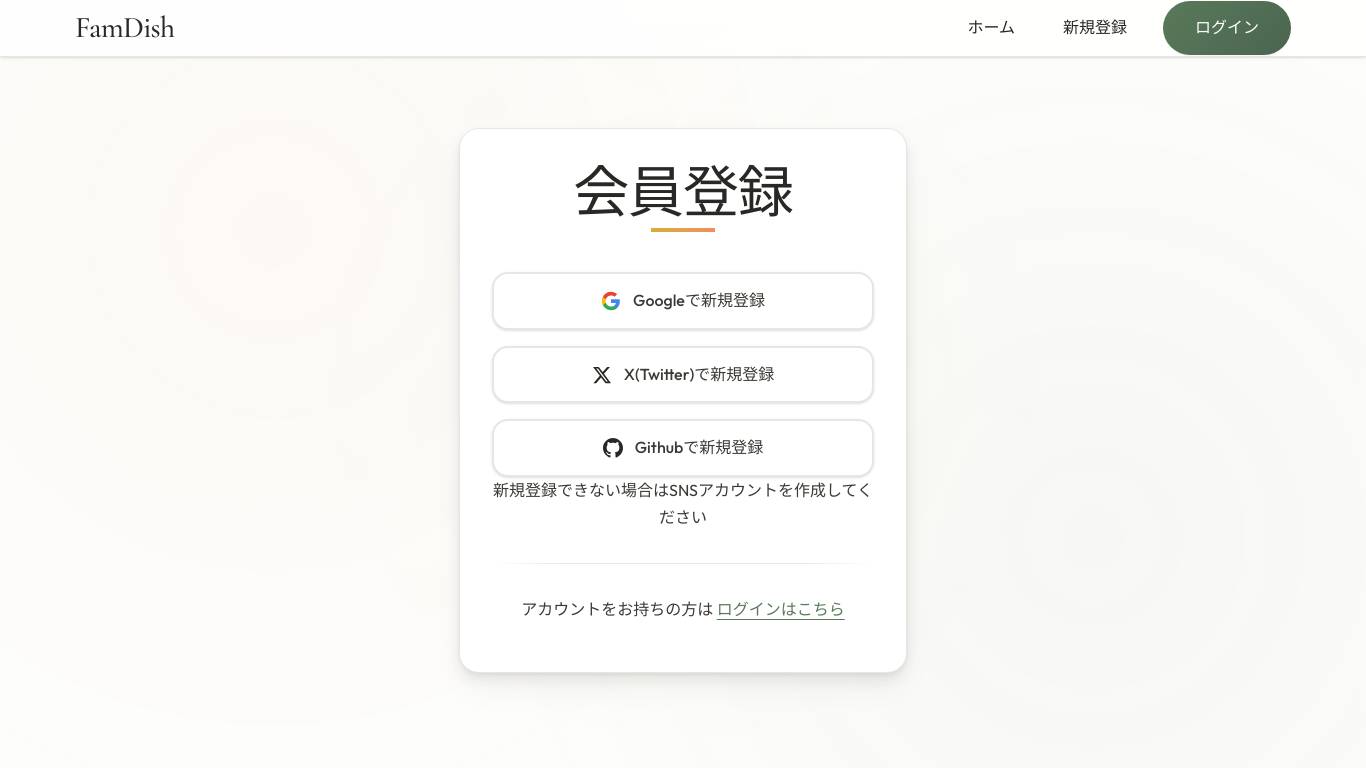
it: SignInPage › ログインエラー時にエラーメッセージを表示する
Click the button "Googleで新規登録" at coordinates (683, 301), box [492,272,874,330]
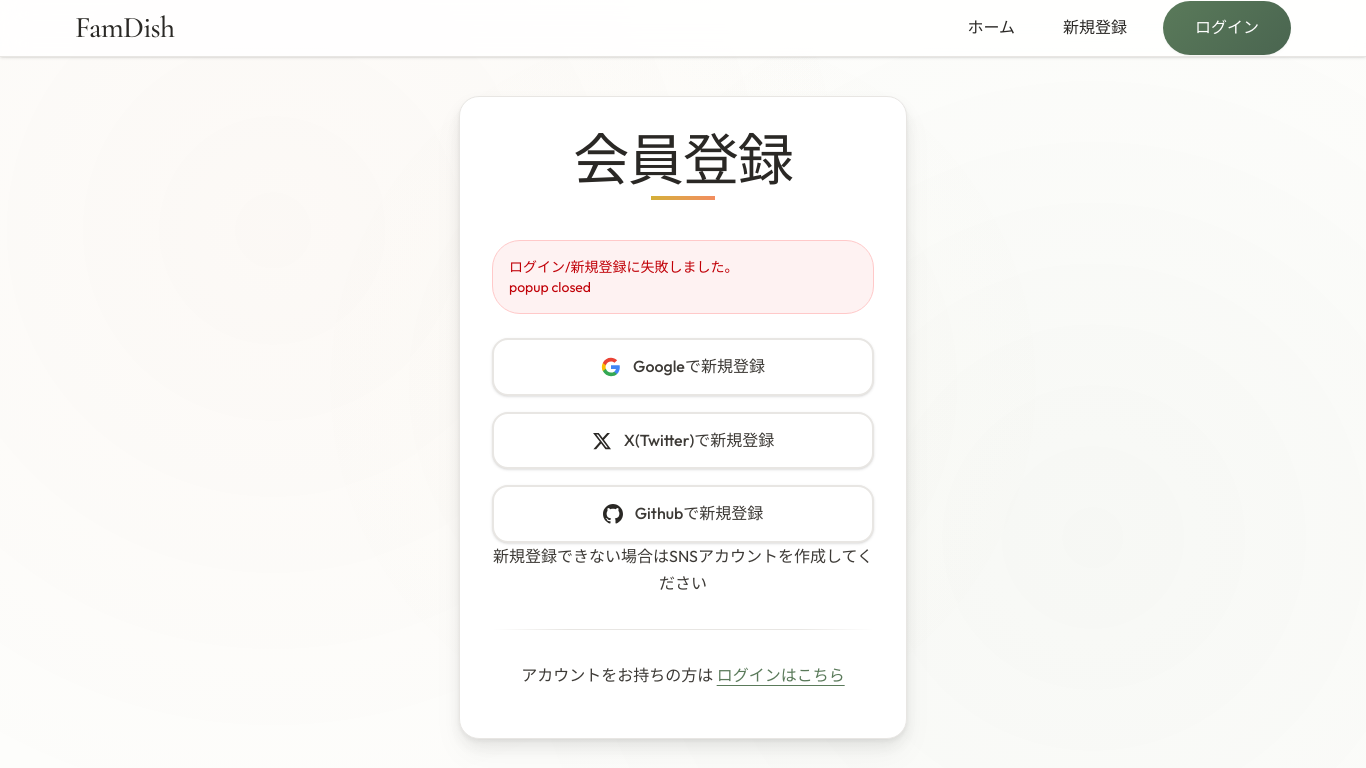
Result: the text "ログイン/新規登録に失敗しました。 popup closed" is shown at [492,240,874,314]
